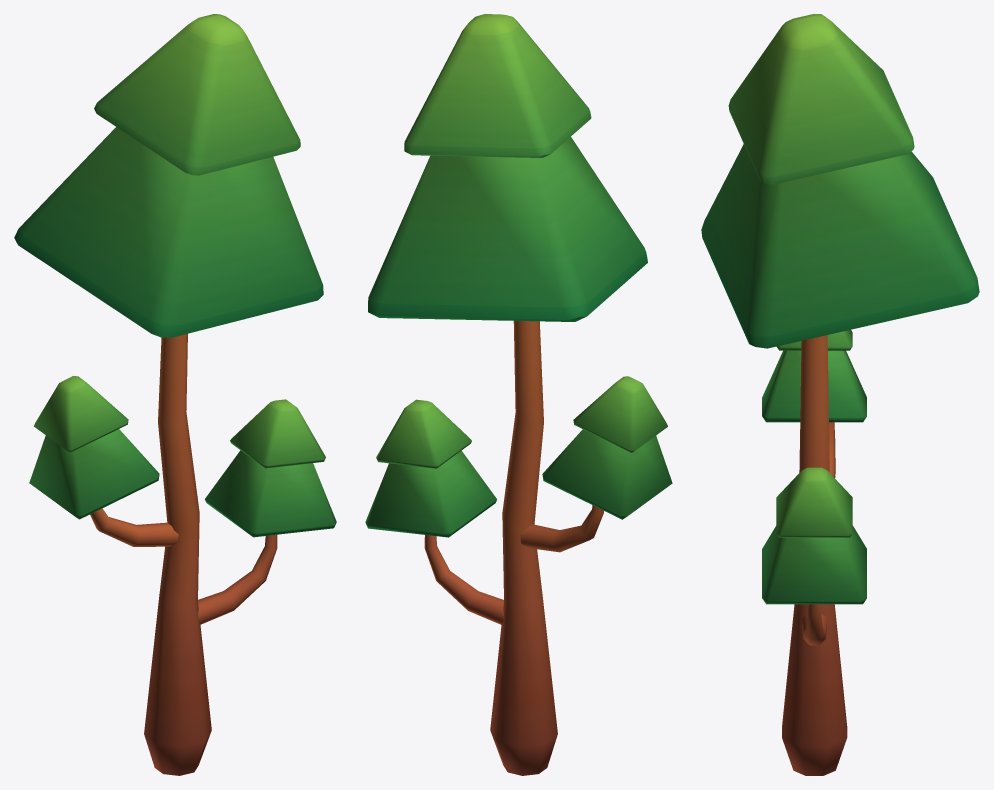
File: tree_4_b_color1.glb
3 views of the same model, side by side, from view 1: azimuth 30°, elevation 25°; view 2: azimuth 150°, elevation 25°; view 3: azimuth 270°, elevation 25° (orthographic). The views are drawn at different scales.
Parts seen in each view (by area): view 1: Tree_4_B_Color1; view 2: Tree_4_B_Color1; view 3: Tree_4_B_Color1.
Part boxes in pixels (bbox=[...]): Tree_4_B_Color1: bbox=[14, 14, 336, 775]; Tree_4_B_Color1: bbox=[365, 14, 672, 775]; Tree_4_B_Color1: bbox=[701, 14, 979, 775].
Size of the model in its own units: 2.57 by 6.94 by 2.27.
Materials: 1 (1 with a texture image).
